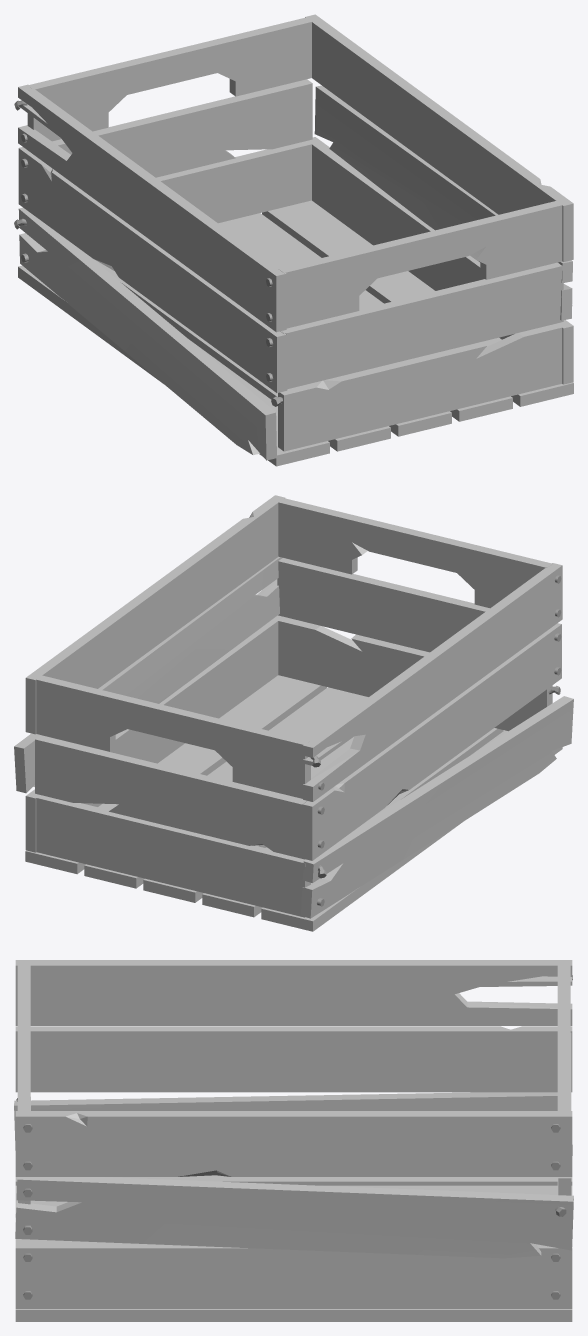
The model's file is basket.FBX.
The picture shows the model from 3 angles, top to bottom: view 1: azimuth 30°, elevation 25°; view 2: azimuth 150°, elevation 25°; view 3: azimuth 270°, elevation 25°; orthographic projection. The views are drawn at different scales.
Parts seen in each view (by area): view 1: Object005; view 2: Object005; view 3: Object005.
Boxes of the visible parts, <box> form: Object005: <box>14,14,573,466</box>; Object005: <box>14,495,573,931</box>; Object005: <box>14,960,573,1321</box>.
Size of the model in its own units: 37.83 by 52.41 by 21.2.
